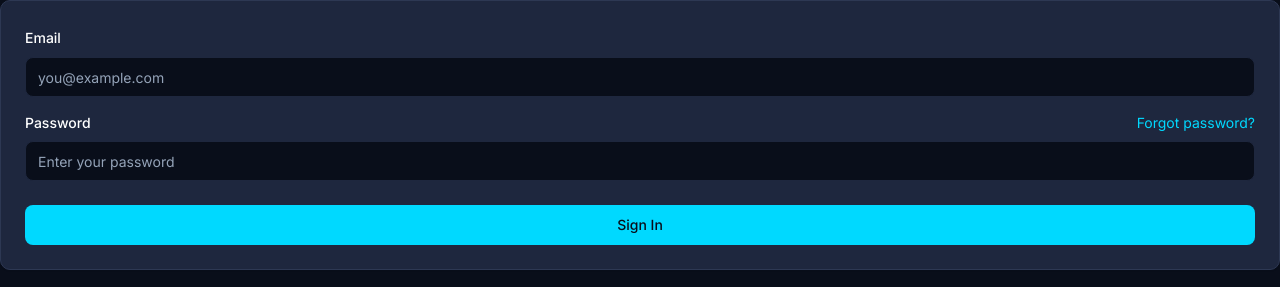
Test: LoginForm › shows loading state while signing in
Type "test@example.com" into the field labelled "Email" at (640, 77), box [25,57,1255,97]
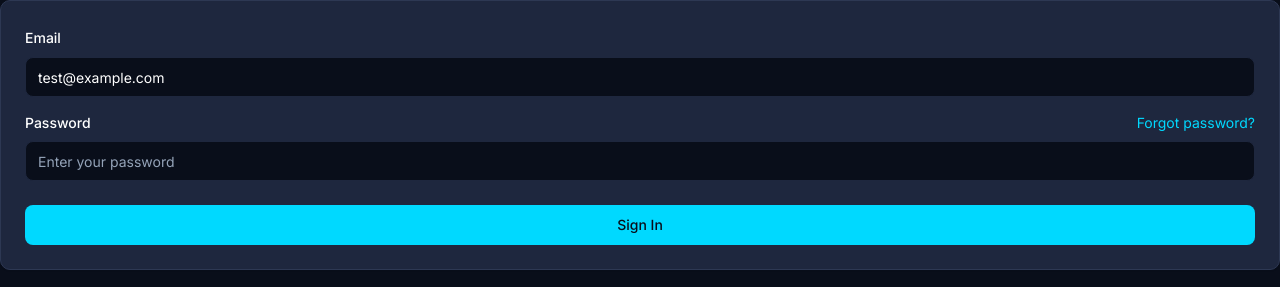
Type "password123" into the password field labelled "Password" at (640, 161), box [25,141,1255,181]
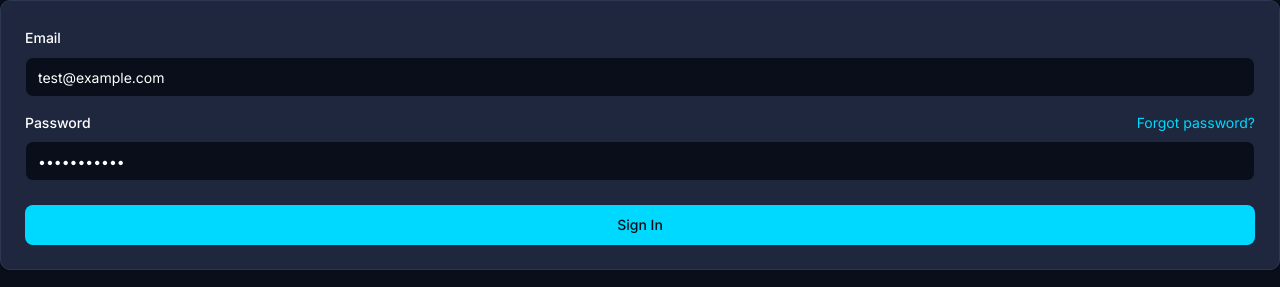
Click the button "Sign In" at (640, 225), box [25,205,1255,245]
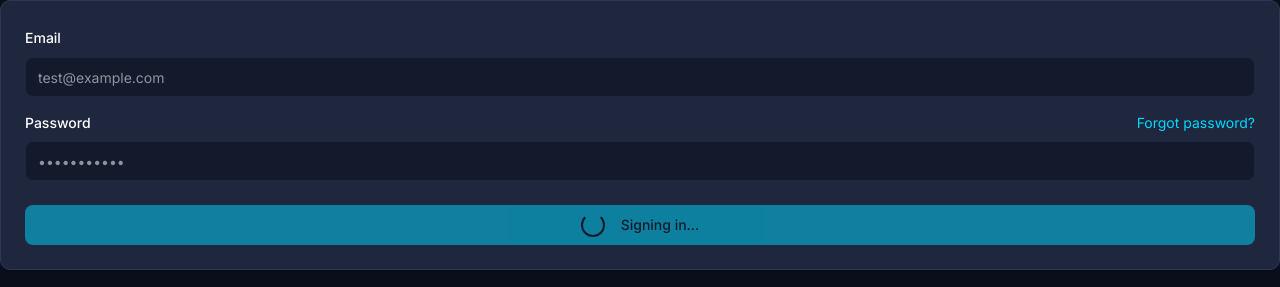
Check: the button "Signing in..." is shown, box [25,205,1255,245]
